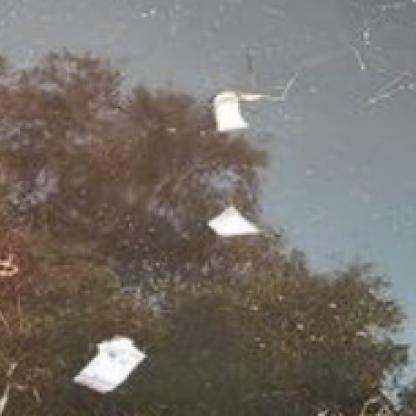Trash: (75, 328, 148, 394), (204, 202, 262, 242), (206, 86, 254, 134)
